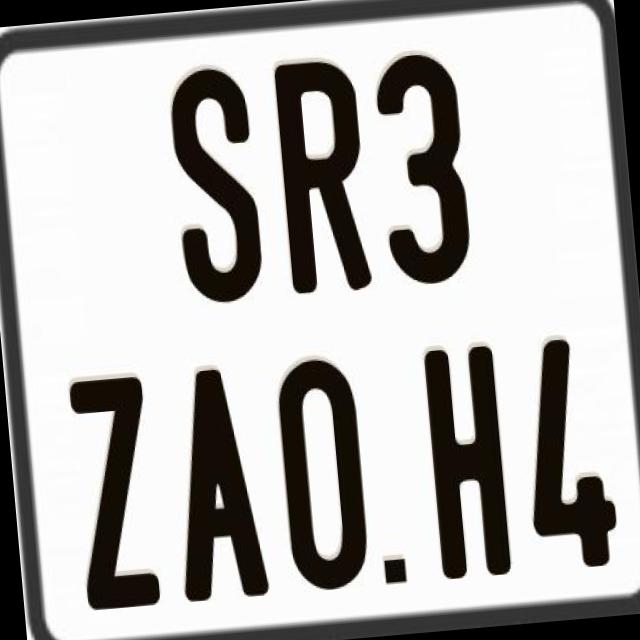0: (271, 352, 375, 590)
3: (370, 47, 474, 288)
4: (515, 333, 625, 572)
A: (164, 361, 274, 600)
H: (422, 342, 512, 578)
R: (270, 54, 372, 300)
S: (164, 60, 265, 309)
Z: (68, 372, 162, 616)
